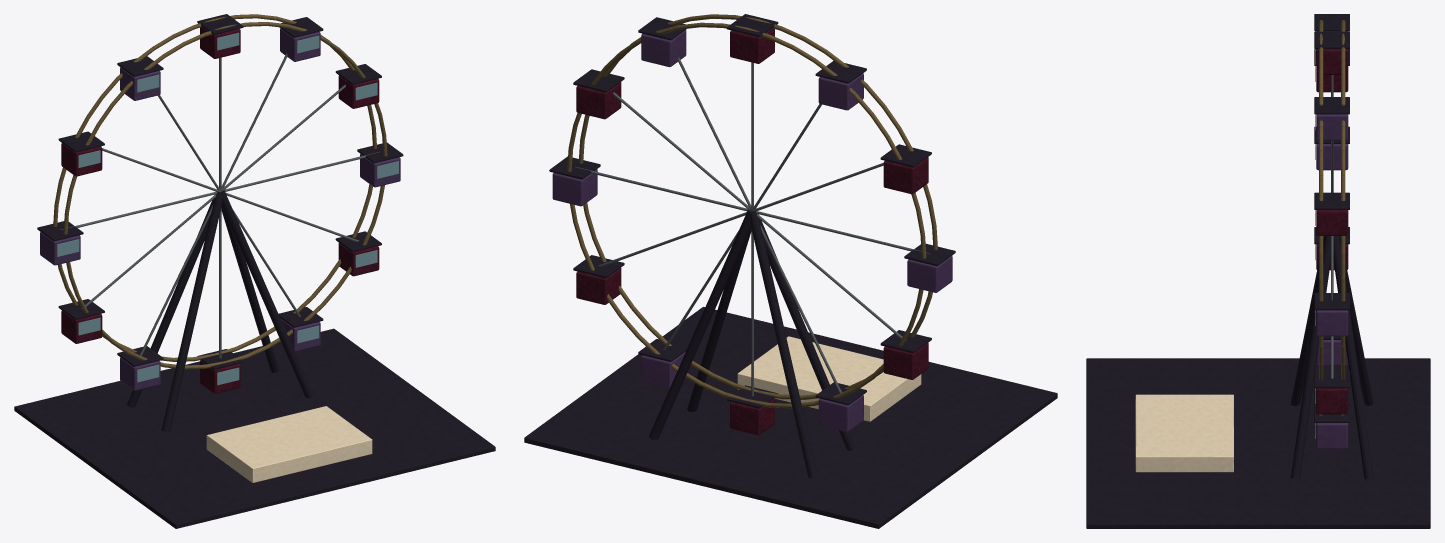
The model's file is explore3d__finish_ferris_platform.glb.
3 renders of one model, left to right at view 1: azimuth 30°, elevation 25°; view 2: azimuth 150°, elevation 25°; view 3: azimuth 270°, elevation 25°, orthographic. The views are drawn at different scales.
Visible parts, largest first — view 1: exterior_A_frame; view 2: exterior_A_frame; view 3: exterior_A_frame.
Boxes of the visible parts, x1=… form: exterior_A_frame: x1=14, y1=14, x2=495, y2=528; exterior_A_frame: x1=524, y1=14, x2=1057, y2=528; exterior_A_frame: x1=1086, y1=14, x2=1430, y2=528.
Size of the model in its own units: 17.5 by 18.31 by 14.
Materials: 7 (6 with a texture image).
